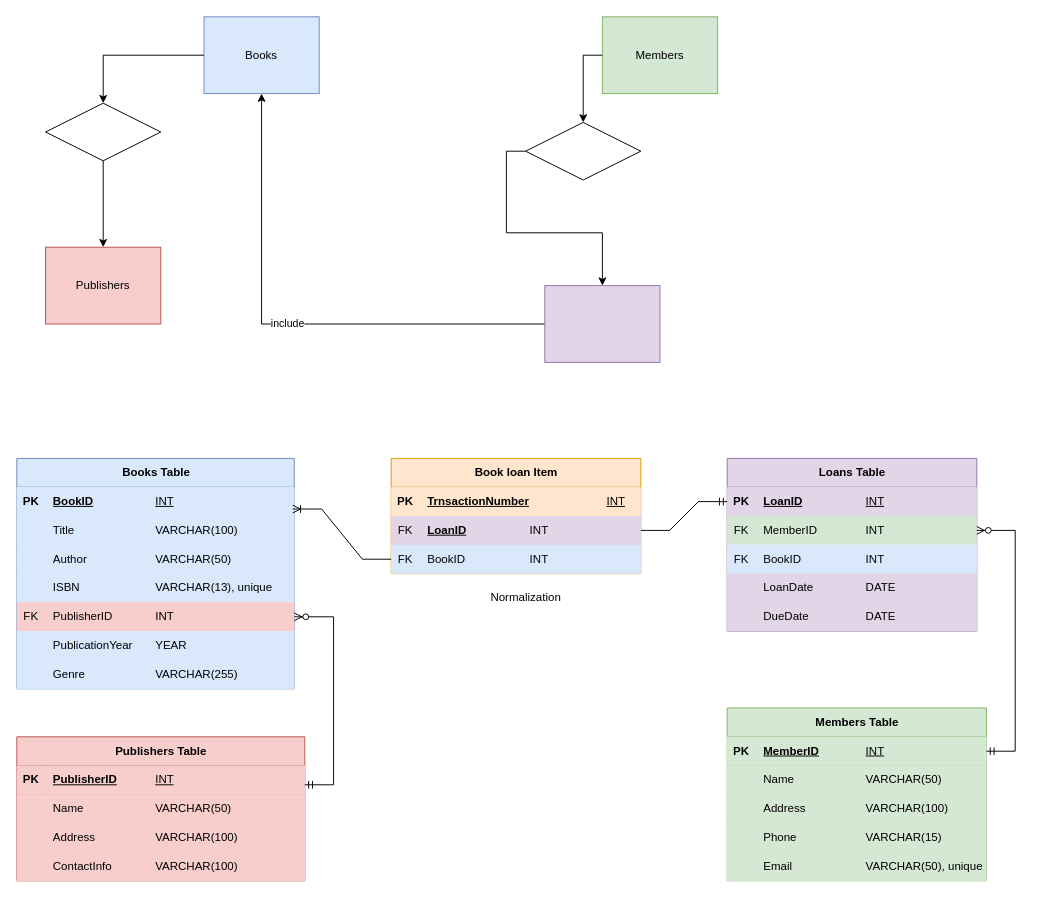
The diagram is 1041 pixels wide and 898 high, and some of its shapes have lost their labels. The centre of each missing label's shape, as x and y in pixels:
"Borrows" goes at point 583,150.
"Loans" goes at point 602,323.
"Publishes" goes at point 103,131.
